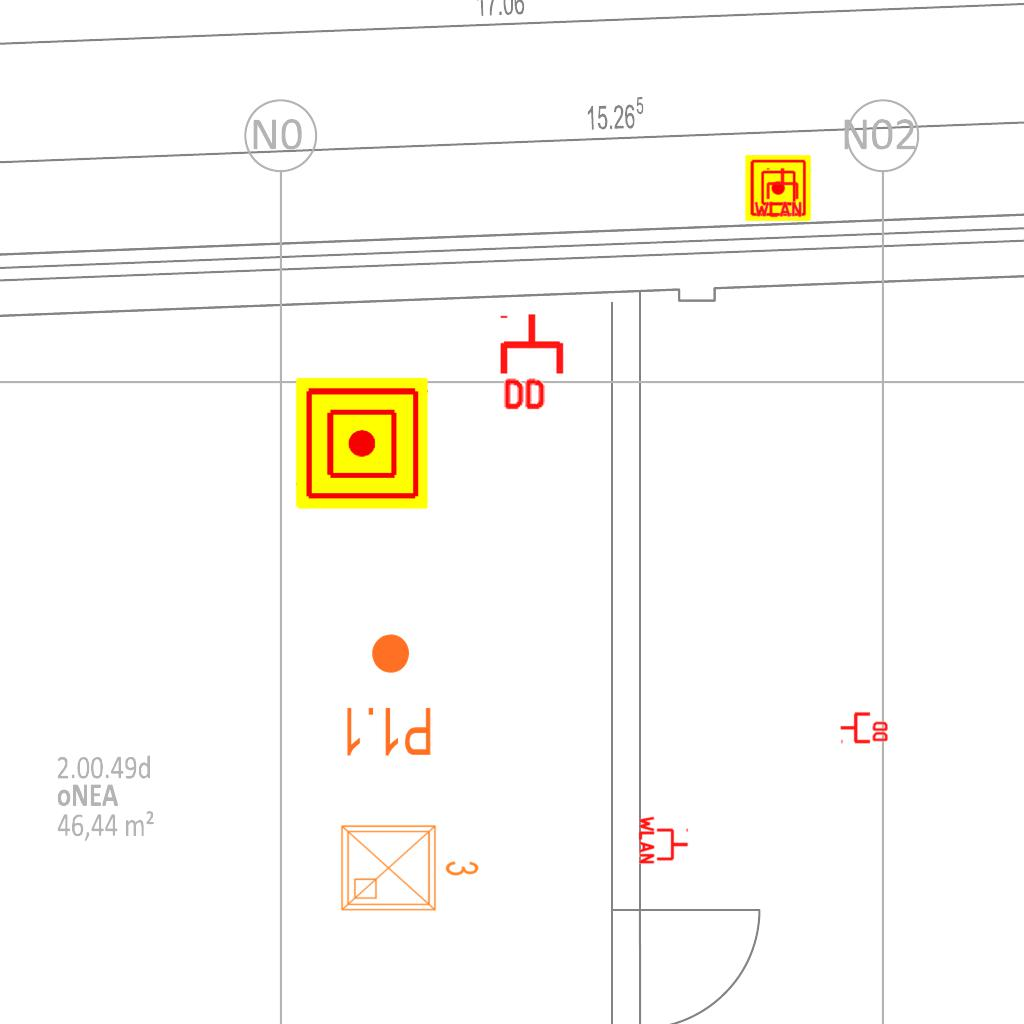Datenanschluss_zweifach: (499, 311, 568, 414), (839, 710, 890, 744)
Downlight_LED_Einbauleuchten_Flur: (341, 631, 434, 759)
Einbaudownlights_LED_Konferenzraeume: (334, 814, 484, 918)
NAM-Nichtautomatischer_Melder: (296, 377, 428, 509), (745, 155, 811, 221)
WLAN: (638, 814, 690, 866), (752, 166, 804, 218)
